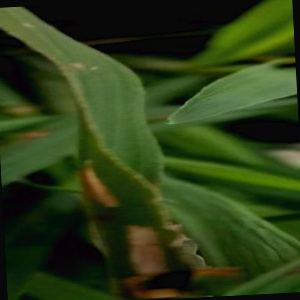Brown_Spot: (114, 209, 173, 282), (84, 156, 125, 207)
